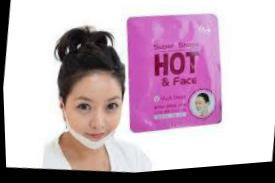WRONG: (62, 89, 125, 156)
